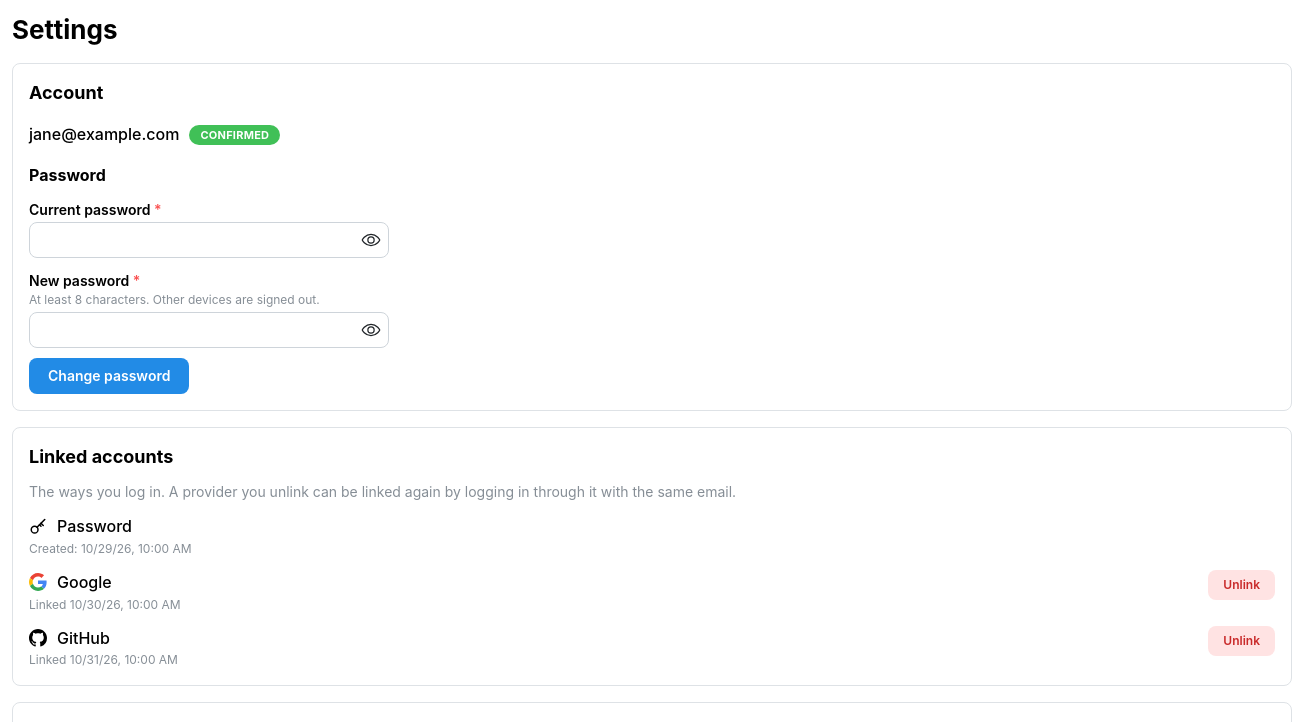
Test: changes the password with the current one
Type "old-password-1" into the password field labelled "Current password *".
click(209, 240); type("old-password-1")  # box [30,223,388,257]
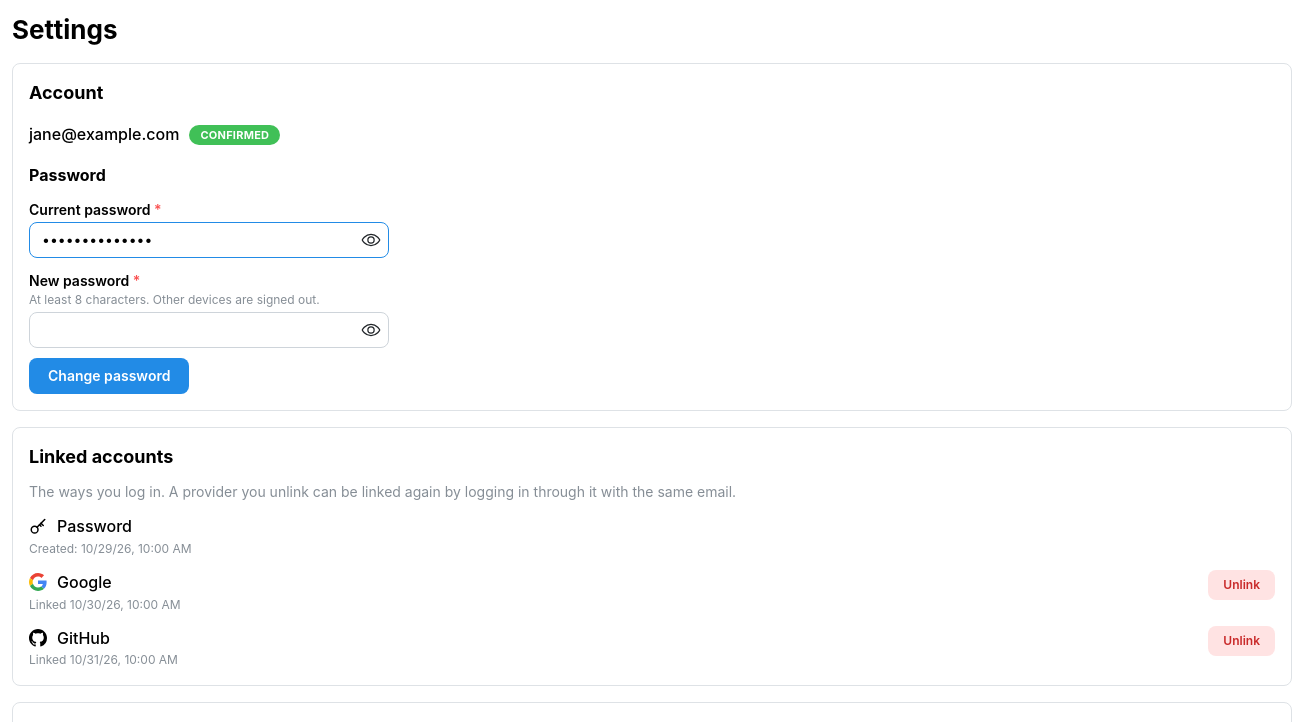
Type "new-password-2" into the password field labelled "New password *".
click(209, 330); type("new-password-2")  # box [30,313,388,347]
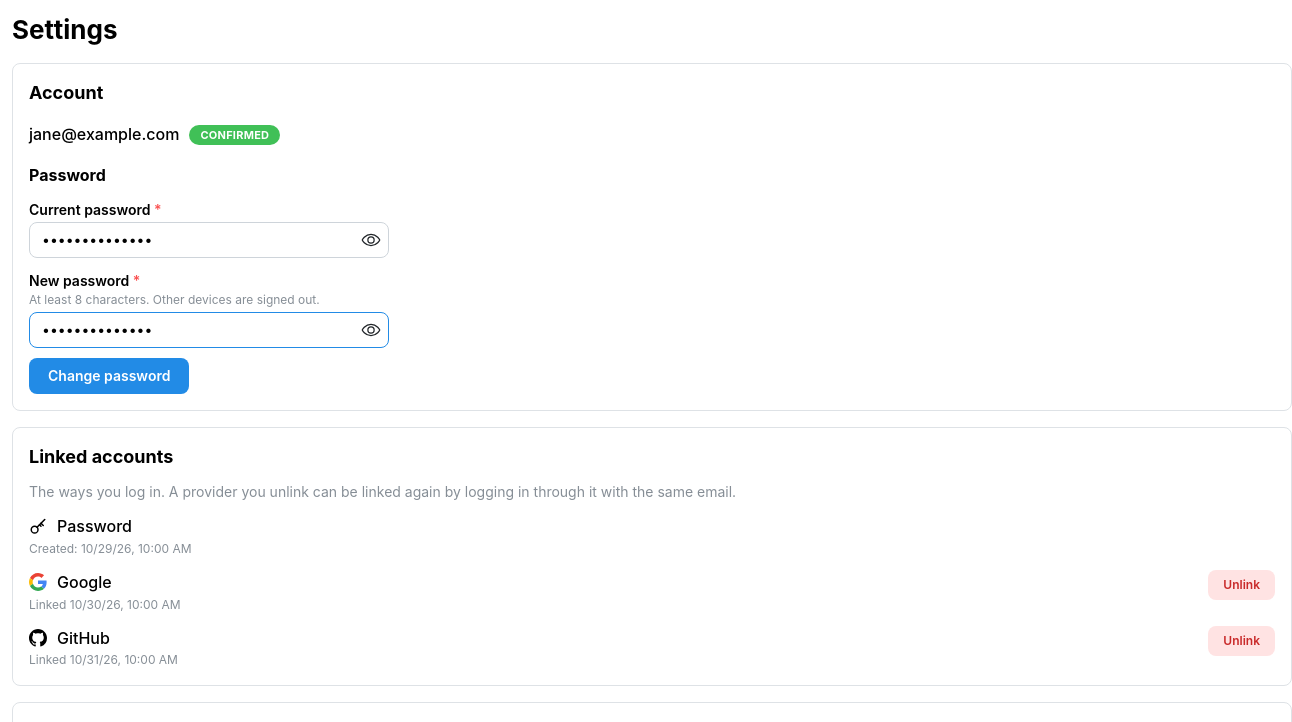
Click the button "Change password".
click(109, 376)  # box [29,358,189,394]
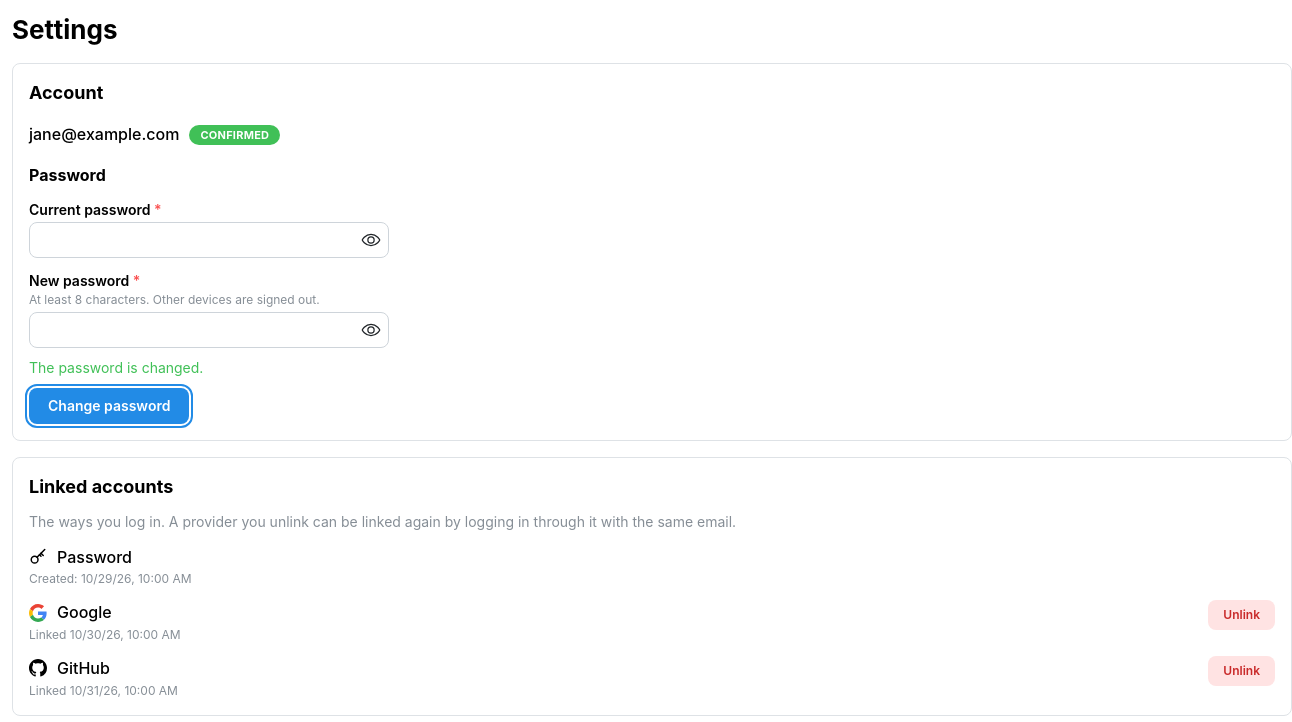
Result: the text "The password is changed." is shown at [29,359,203,376]
